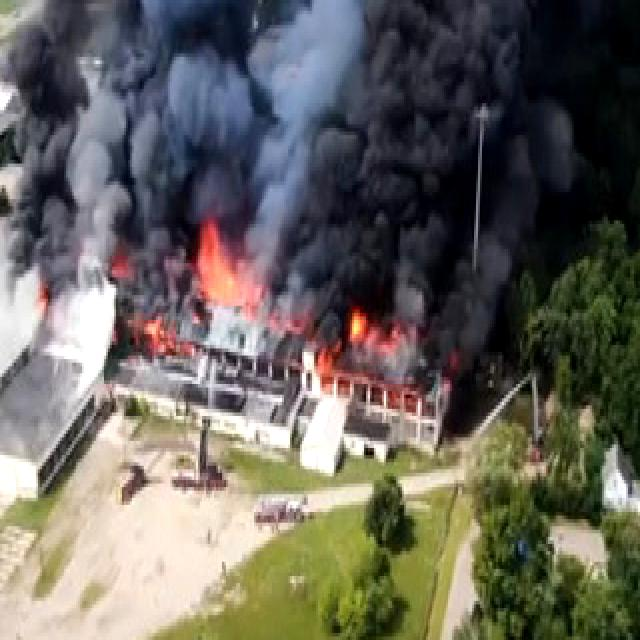fire: (197, 217, 264, 327)
smoke: (278, 0, 640, 281), (2, 6, 74, 259), (64, 96, 132, 301), (171, 11, 257, 172)
